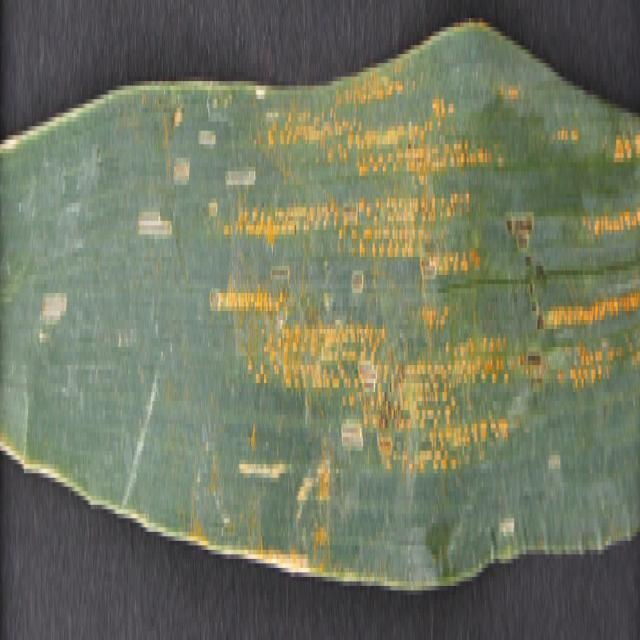leaf rust: (178, 58, 638, 546)
